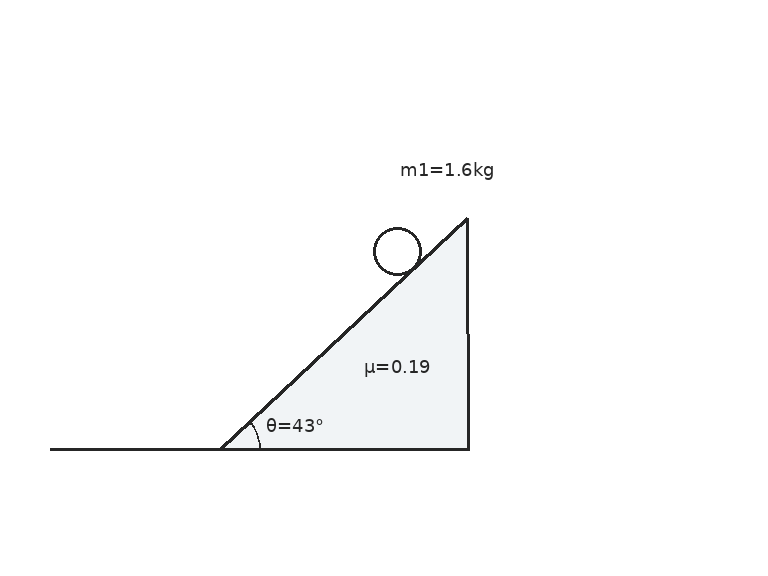ball: (371, 225, 423, 277)
ramp: (218, 216, 470, 451)
